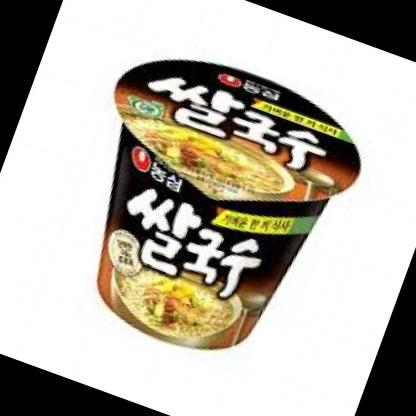Ramen: (41, 28, 377, 386)
